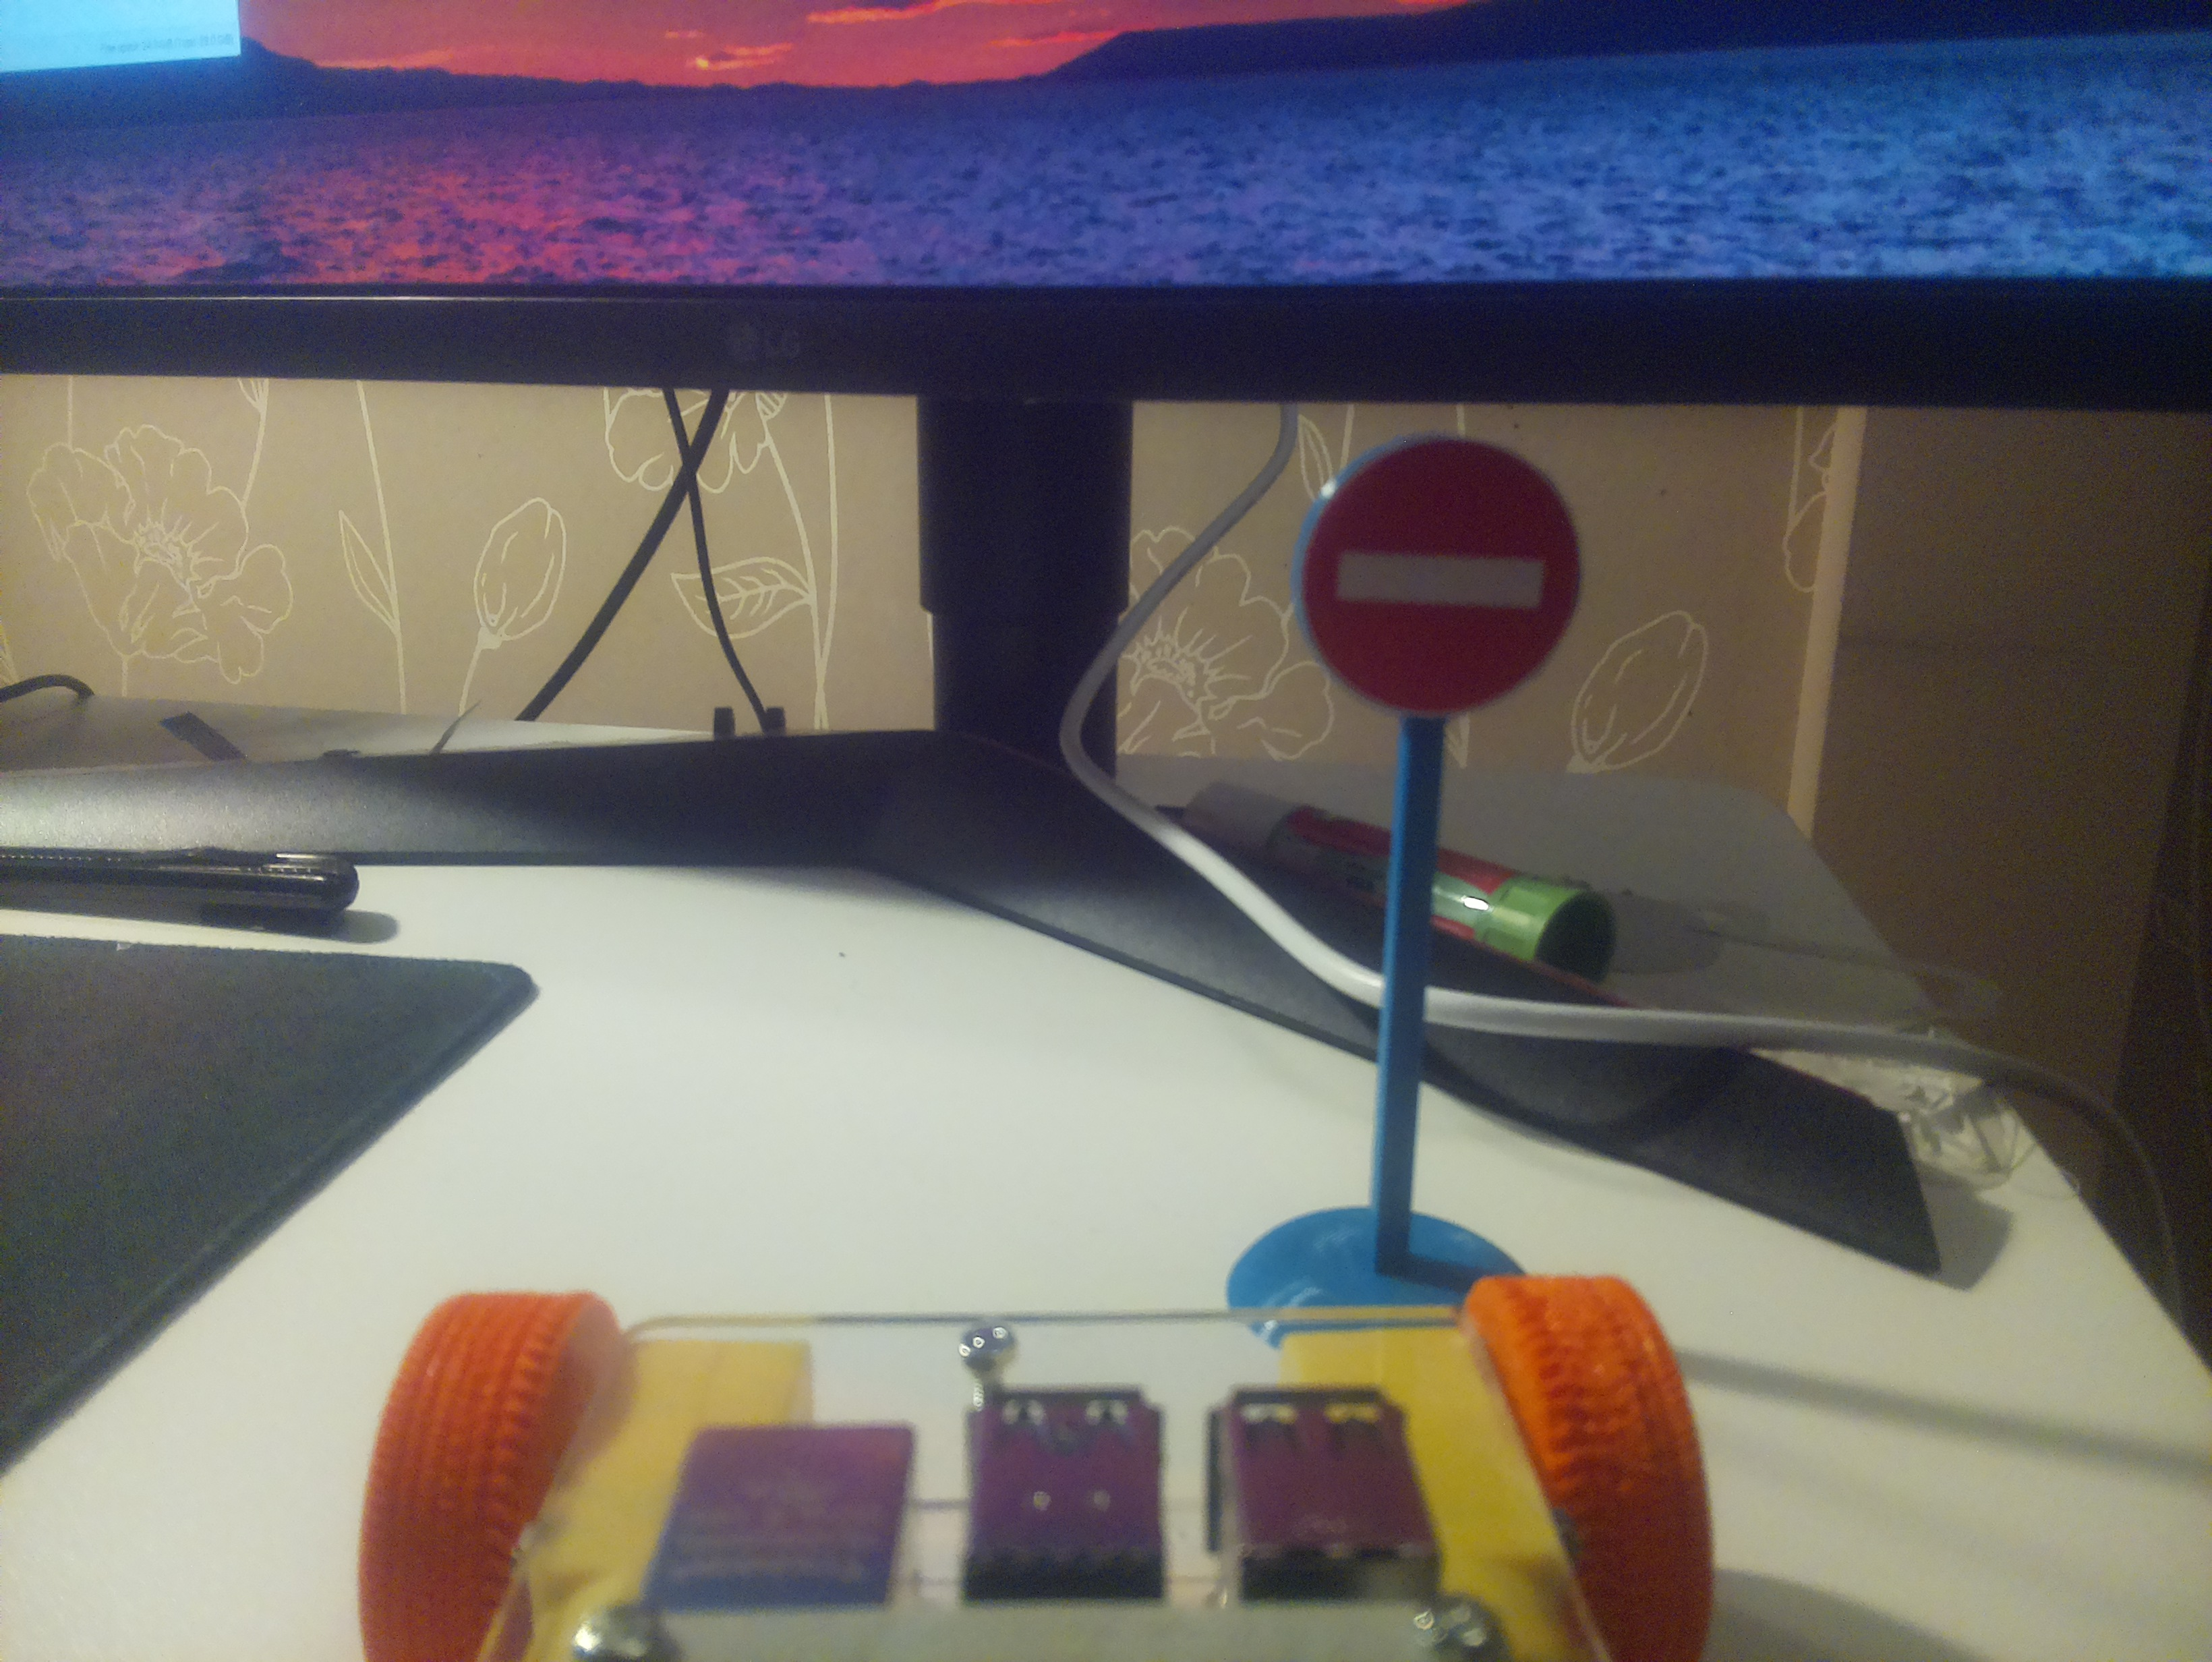brick: (1308, 364, 1420, 480)
